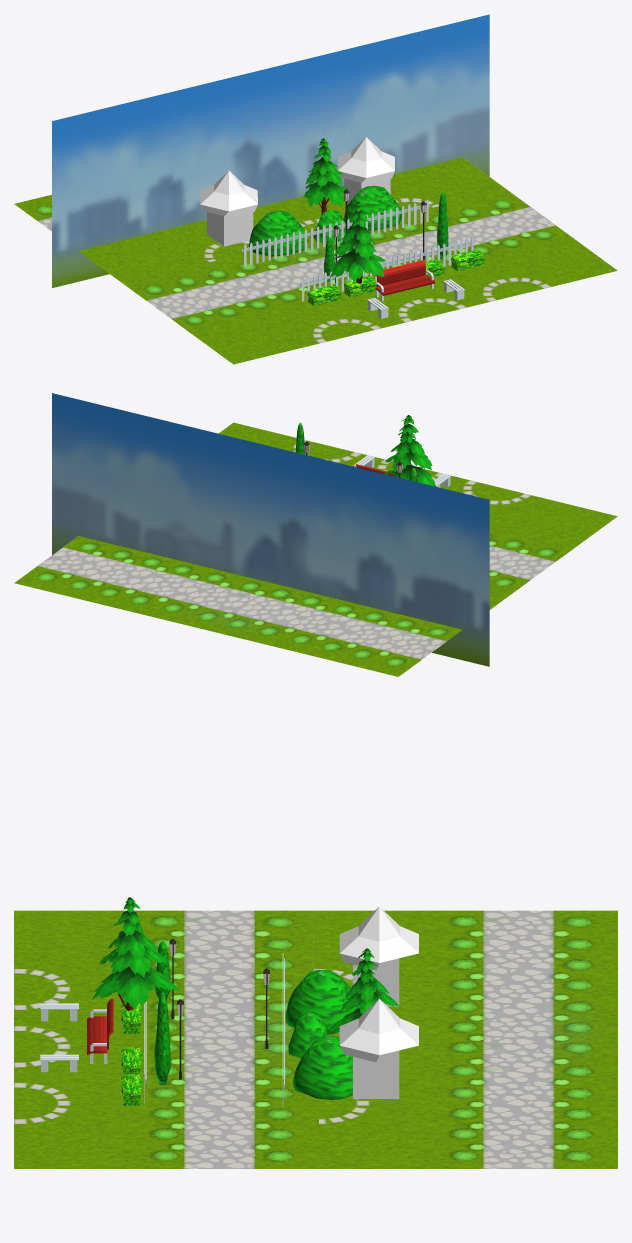
The model's file is Garden 3.fbx.
3 renders of one model, top to bottom at view 1: azimuth 30°, elevation 25°; view 2: azimuth 150°, elevation 25°; view 3: azimuth 270°, elevation 25°, orthographic. The views are drawn at different scales.
Visible parts, largest first — view 1: Garden.006, Garden.004, Garden.002, Garden.010, Garden.157, Garden.008, Garden.077, Garden.001, Garden.117, Garden.014, Garden.009, Garden.003 (+3 smaller); view 2: Garden.006, Garden.002, Garden.004, Garden.077; view 3: Garden.004, Garden.002, Garden.008, Garden.077, Garden.010, Garden.012, Garden.014, Garden.117, Garden.001, Garden.003, Garden.040, Garden.013.
Boxes of the visible parts, bbox=[...] form: Garden.006: bbox=[52, 14, 489, 287]; Garden.004: bbox=[123, 190, 617, 364]; Garden.002: bbox=[14, 157, 506, 283]; Garden.010: bbox=[200, 170, 257, 246]; Garden.157: bbox=[241, 199, 429, 266]; Garden.008: bbox=[337, 137, 394, 203]; Garden.077: bbox=[330, 201, 385, 283]; Garden.001: bbox=[307, 250, 484, 305]; Garden.117: bbox=[303, 138, 348, 213]; Garden.014: bbox=[248, 211, 308, 256]; Garden.009: bbox=[300, 236, 474, 301]; Garden.003: bbox=[375, 260, 435, 301]; Garden.006: bbox=[52, 393, 489, 666]; Garden.002: bbox=[14, 536, 506, 676]; Garden.004: bbox=[218, 422, 617, 597]; Garden.077: bbox=[384, 415, 435, 486]; Garden.004: bbox=[14, 910, 318, 1168]; Garden.002: bbox=[313, 910, 617, 1168]; Garden.008: bbox=[339, 998, 418, 1098]; Garden.077: bbox=[92, 897, 179, 1010]; Garden.010: bbox=[339, 906, 418, 1006]; Garden.012: bbox=[293, 1036, 352, 1100]; Garden.014: bbox=[285, 970, 359, 1034]; Garden.117: bbox=[328, 948, 399, 1031]; Garden.001: bbox=[121, 993, 142, 1105]; Garden.003: bbox=[87, 998, 113, 1063]; Garden.040: bbox=[154, 992, 170, 1085]; Garden.013: bbox=[288, 1012, 328, 1057].
Bounding box in the file's own units: 31540 × 11632 × 27390.
3 materials, 3 textured.
